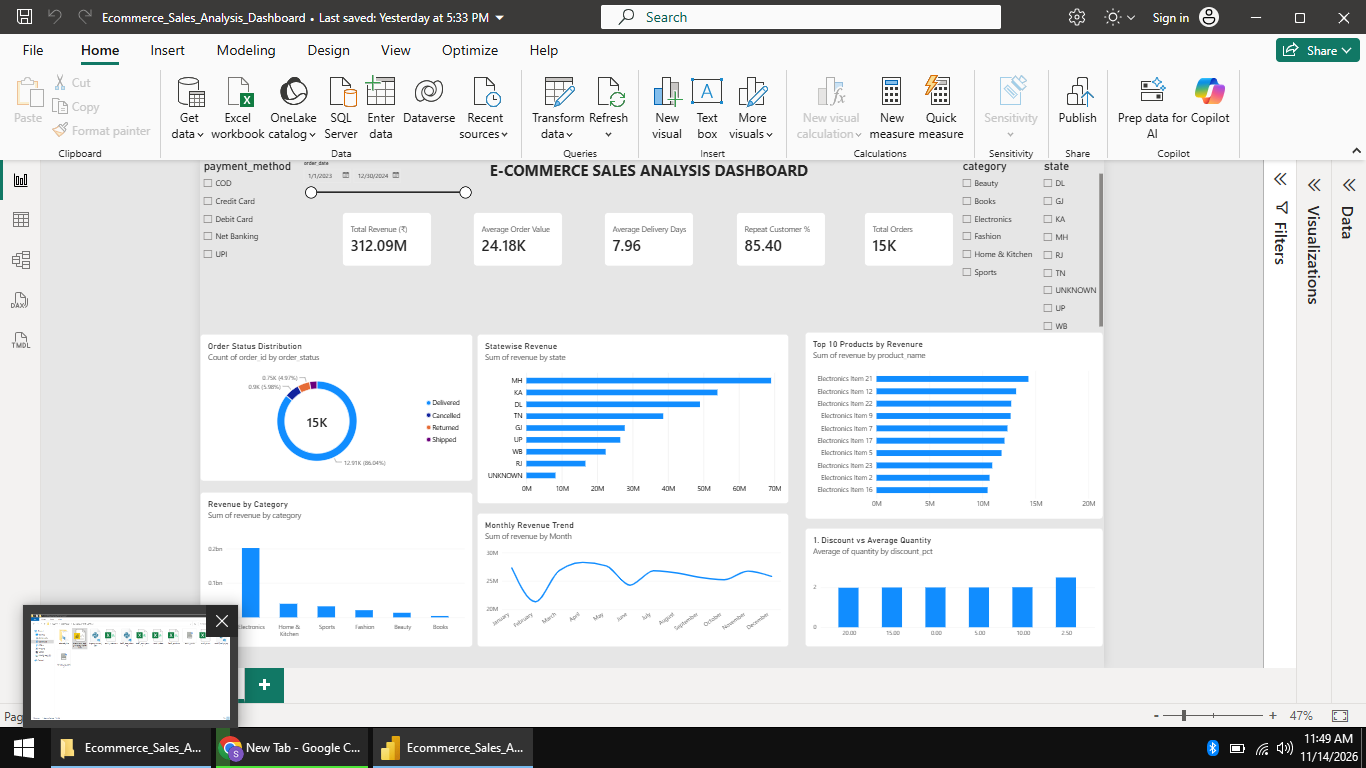

The dashboard page shown, as its layout file describes it:
{"tool":"powerbi","page":{"name":"Page 1","canvas":[1920,1080],"ordinal":0},"visuals":[{"type":"cardVisual","fields":{"Data":["SalesItems.Total Revenue"]},"box":[301.9,110.6,191.3,116.9],"z":0},{"type":"cardVisual","fields":{"Data":["Orders.Total Orders"]},"box":[1411.7,110.6,191.3,116.9],"z":1},{"type":"cardVisual","fields":{"Data":["SalesItems.Average Order Value"]},"box":[580.4,110.6,191.3,116.9],"z":2},{"type":"cardVisual","fields":{"Data":["Orders.Repeat Customer %"]},"box":[1139.5,110.6,191.3,116.9],"z":3},{"type":"cardVisual","fields":{"Data":["Orders.Average Delivery Days"]},"box":[858.9,110.6,191.3,116.9],"z":4},{"type":"lineChart","title":"Monthly Revenue Trend","fields":{"Category":["Orders.order_date.Variation.Date Hierarchy.Month"],"Y":["Sum(SalesItems.revenue)"]},"box":[588.9,750.5,663.3,284.9],"z":5},{"type":"clusteredColumnChart","title":"Revenue by Category","fields":{"Category":["ecommerce_sales products.category"],"Y":["Sum(SalesItems.revenue)"]},"box":[0,705.8,580.4,329.5],"z":6},{"type":"donutChart","title":"Order Status Distribution","fields":{"Category":["Orders.order_status"],"Y":["CountNonNull(Orders.order_id)"]},"box":[0,369.9,580.4,312.5],"z":7},{"type":"clusteredBarChart","title":"Statewise Revenue","fields":{"Category":["ecommerce_sales customers.state"],"Y":["Sum(SalesItems.revenue)"]},"box":[588.9,369.9,663.3,361.4],"z":8},{"type":"clusteredBarChart","title":"Top 10 Products by Revenure","fields":{"Category":["ecommerce_sales products.product_name"],"Y":["Sum(SalesItems.revenue)"]},"box":[1286.2,365.7,633.5,397.6],"z":9},{"type":"clusteredColumnChart","title":"1. Discount vs Average Quantity","fields":{"Category":["SalesItems.discount_pct"],"Y":["Avg(SalesItems.quantity)"]},"box":[1286.2,782.4,633.5,253],"z":10},{"type":"textbox","box":[548.5,0,812.1,65.9],"z":11},{"type":"slicer","fields":{"Values":["Orders.order_date"]},"box":[212.6,0,367.8,93.5],"z":12},{"type":"slicer","fields":{"Values":["ecommerce_sales products.category"]},"box":[1613.6,0,157.3,270],"z":13},{"type":"slicer","fields":{"Values":["ecommerce_sales customers.state"]},"box":[1785.8,0,133.9,365.7],"z":14},{"type":"slicer","fields":{"Values":["Orders.payment_method"]},"box":[0,0,212.6,236],"z":15}]}

Visuals, with their boxes on the page's 1920x1080 design canvas (x1, y1, x2, y2). These are canvas units, not pixel positions in the 1366x768 screenshot, which may show the page scaled, cropped or inside an application window:
cardVisual - SalesItems.Total Revenue: [x1=302, y1=111, x2=493, y2=228]
cardVisual - Orders.Total Orders: [x1=1412, y1=111, x2=1603, y2=228]
cardVisual - SalesItems.Average Order Value: [x1=580, y1=111, x2=772, y2=228]
cardVisual - Orders.Repeat Customer %: [x1=1140, y1=111, x2=1331, y2=228]
cardVisual - Orders.Average Delivery Days: [x1=859, y1=111, x2=1050, y2=228]
"Monthly Revenue Trend" lineChart: [x1=589, y1=750, x2=1252, y2=1035]
"Revenue by Category" clusteredColumnChart: [x1=0, y1=706, x2=580, y2=1035]
"Order Status Distribution" donutChart: [x1=0, y1=370, x2=580, y2=682]
"Statewise Revenue" clusteredBarChart: [x1=589, y1=370, x2=1252, y2=731]
"Top 10 Products by Revenure" clusteredBarChart: [x1=1286, y1=366, x2=1920, y2=763]
"1. Discount vs Average Quantity" clusteredColumnChart: [x1=1286, y1=782, x2=1920, y2=1035]
textbox: [x1=548, y1=0, x2=1361, y2=66]
slicer - Orders.order_date: [x1=213, y1=0, x2=580, y2=94]
slicer - ecommerce_sales products.category: [x1=1614, y1=0, x2=1771, y2=270]
slicer - ecommerce_sales customers.state: [x1=1786, y1=0, x2=1920, y2=366]
slicer - Orders.payment_method: [x1=0, y1=0, x2=213, y2=236]
